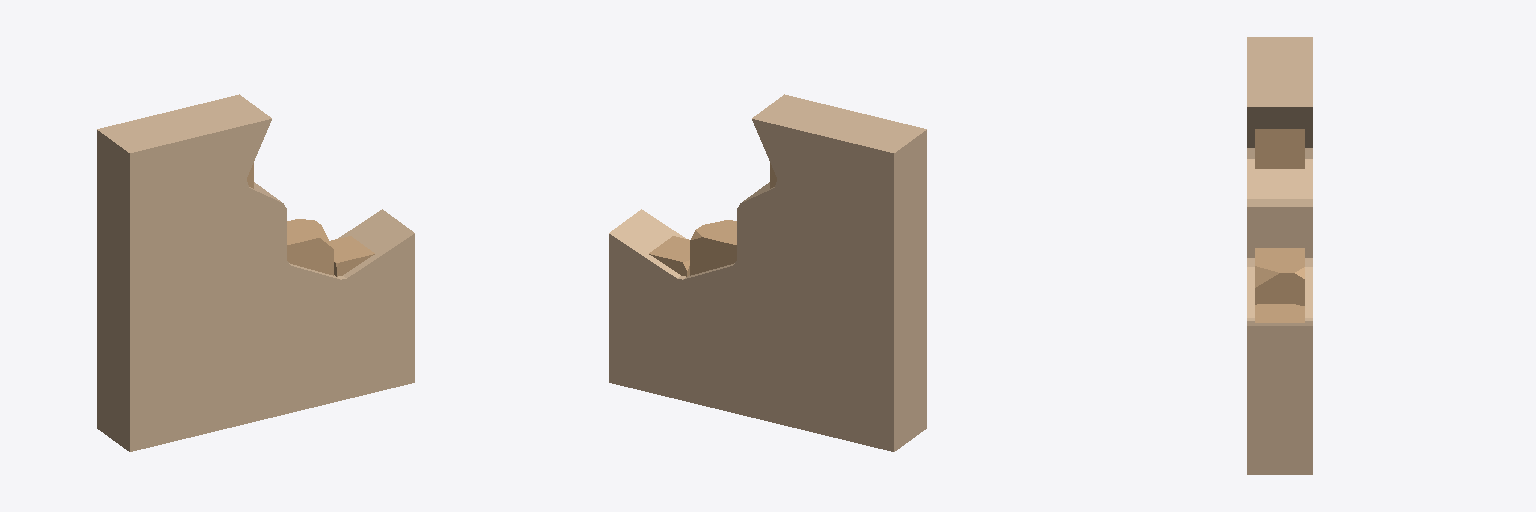
File: Wall_Ruined_Corner_Inner_2.obj
3 renders of one model, left to right at view 1: azimuth 30°, elevation 25°; view 2: azimuth 150°, elevation 25°; view 3: azimuth 270°, elevation 25°, orthographic.
Parts seen in each view (by area): view 1: object1, object4, object3; view 2: object1, object4, object3; view 3: object1, object4, object2, object3.
Part boxes in pixels (left/top/right/bottom): object1: left=97, top=94, right=414, bottom=451; object4: left=287, top=219, right=333, bottom=275; object3: left=330, top=236, right=374, bottom=276; object1: left=609, top=94, right=926, bottom=451; object4: left=690, top=220, right=736, bottom=275; object3: left=649, top=236, right=689, bottom=276; object1: left=1247, top=37, right=1312, bottom=474; object4: left=1255, top=248, right=1304, bottom=305; object2: left=1255, top=129, right=1304, bottom=168; object3: left=1255, top=304, right=1304, bottom=322.
Size of the model in its own units: 1 by 1 by 0.2.